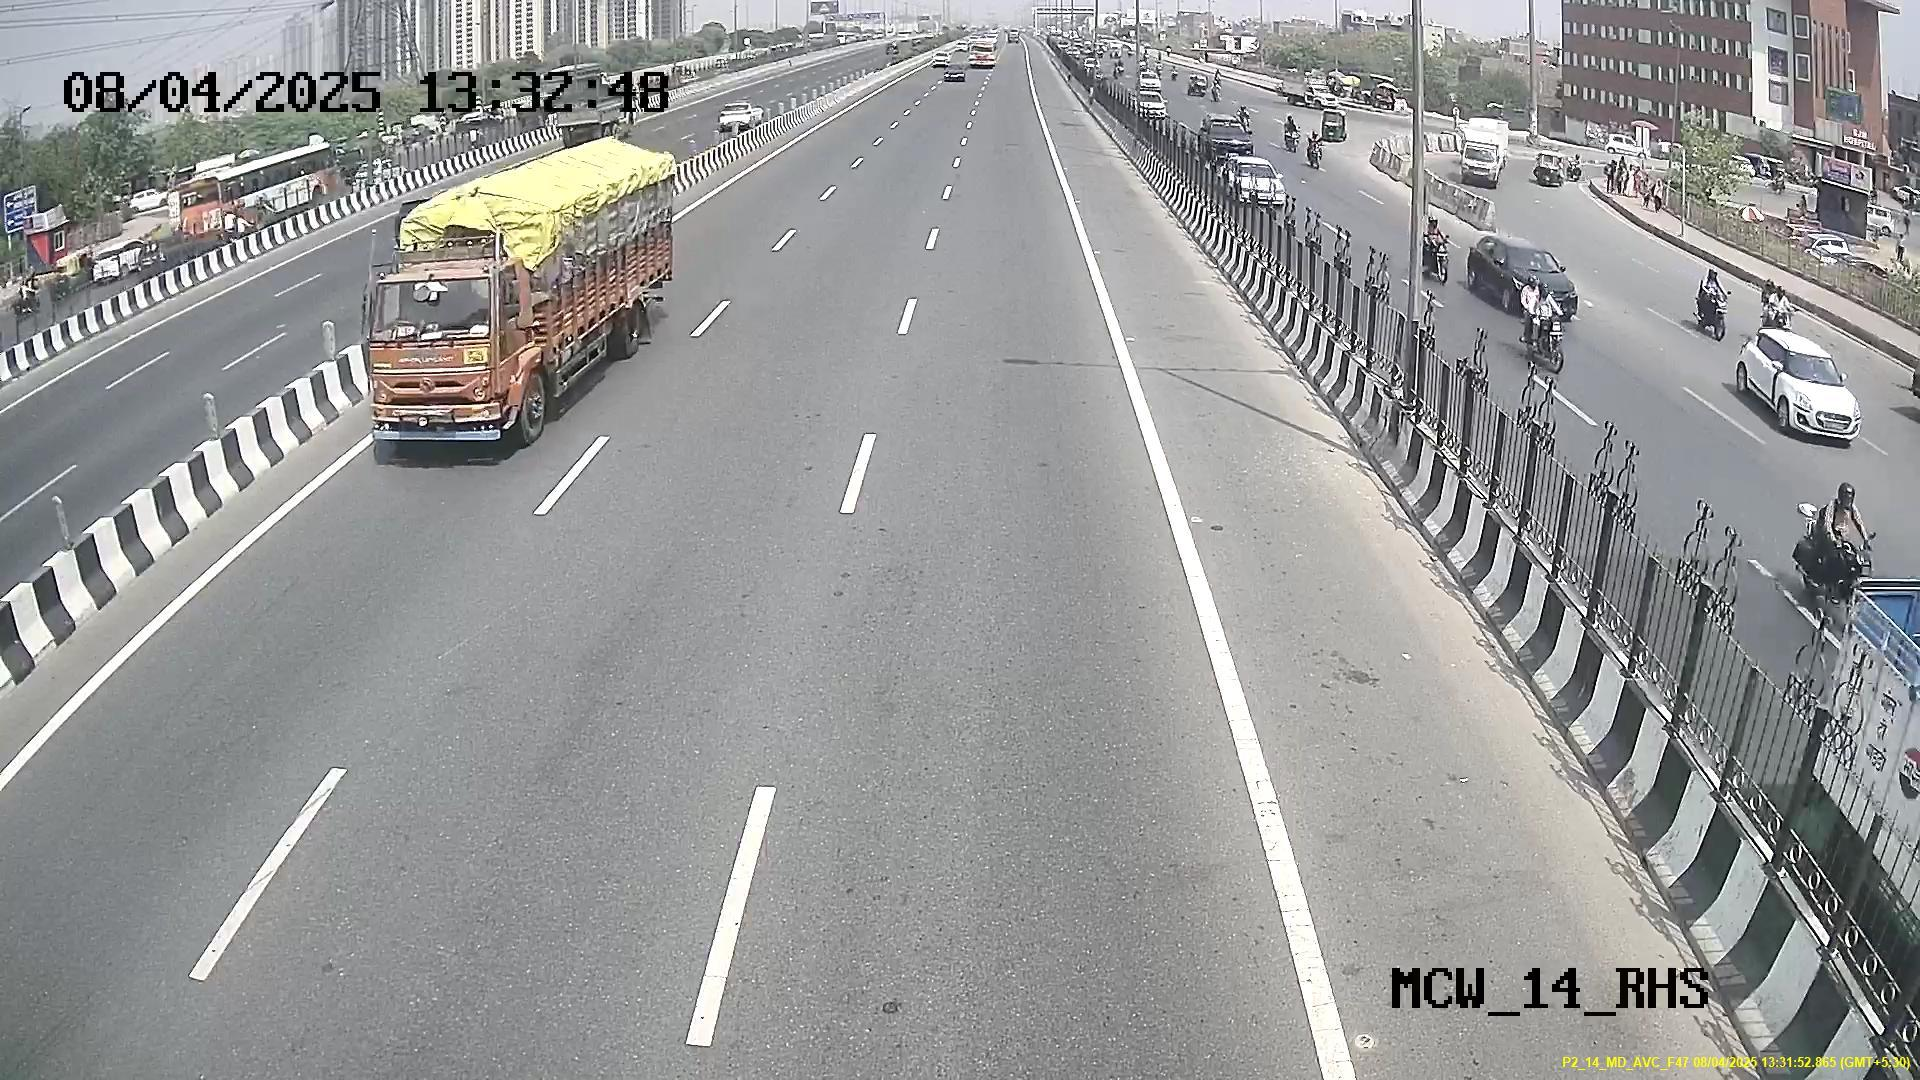lcv: (361, 262, 538, 451)
